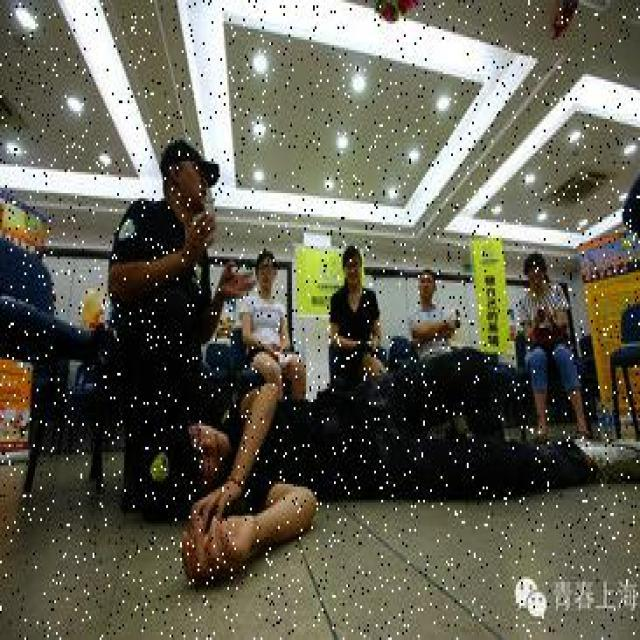fall: (151, 373, 638, 529)
